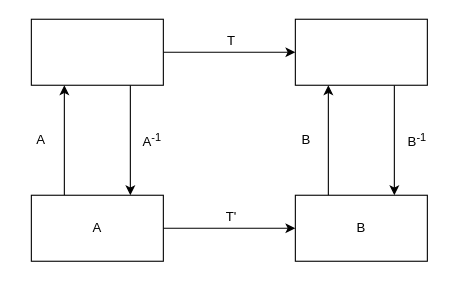
The diagram is 458 pixels wide and 281 high, and some of its shapes have lost their labels. Here are the shapes that lost their labels. From the top down, the centre of each, then its label:
At (96,51): "E 3".
At (360,51): "E 2".
